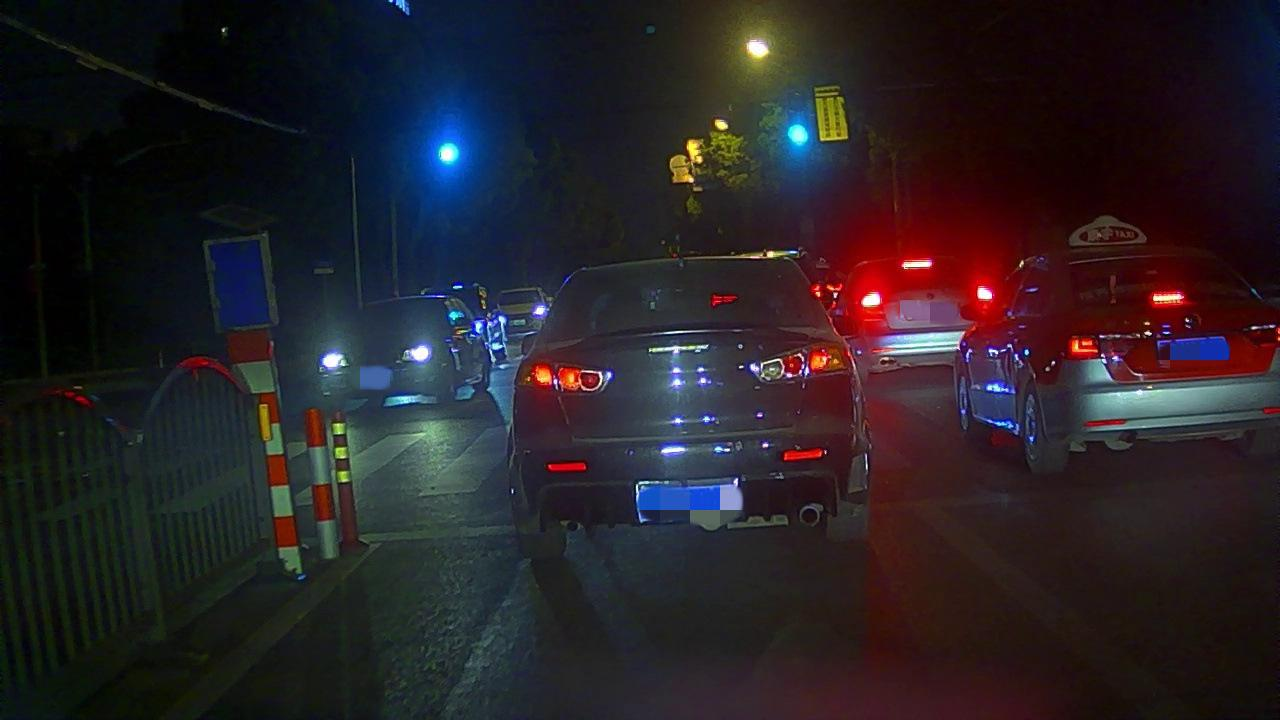traffic_light: (783, 94, 812, 152), (436, 111, 460, 167)
